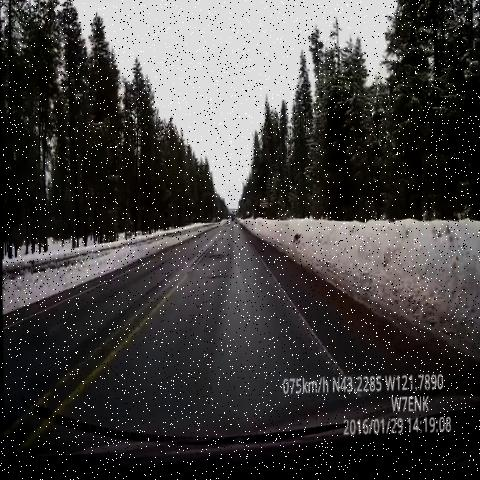pothole: (201, 273, 239, 287), (205, 248, 228, 271)
